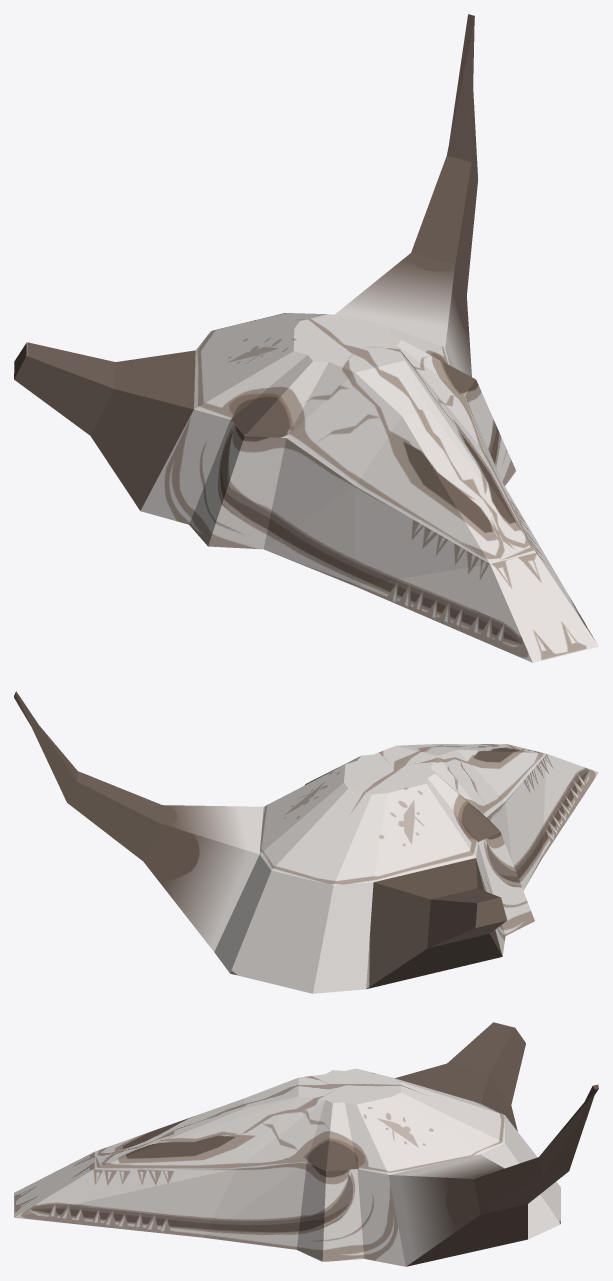
The model's file is skull.obj.
The picture shows the model from 3 angles, top to bottom: view 1: azimuth 30°, elevation 25°; view 2: azimuth 150°, elevation 25°; view 3: azimuth 270°, elevation 25°; orthographic projection. The views are drawn at different scales.
Parts seen in each view (by area): view 1: Plane_Plane.002; view 2: Plane_Plane.002; view 3: Plane_Plane.002.
Part boxes in pixels (<box>): Plane_Plane.002: <box>14,14,598,662</box>; Plane_Plane.002: <box>14,691,598,993</box>; Plane_Plane.002: <box>14,1022,598,1266</box>.
Size of the model in its own units: 4.6 by 2.47 by 5.78.
1 material, 1 textured.
